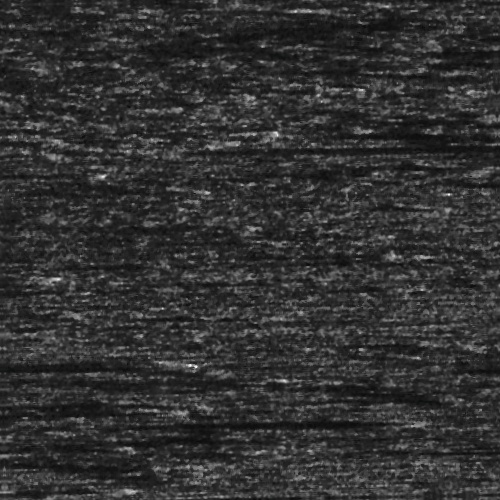object: (134, 353, 207, 368), (134, 403, 207, 414), (409, 392, 462, 405), (58, 480, 131, 489), (19, 131, 82, 140), (394, 421, 435, 426), (253, 376, 294, 381), (20, 270, 61, 275), (0, 317, 12, 328), (63, 284, 94, 287)
shadow: (0, 353, 171, 368), (274, 144, 500, 155), (0, 403, 171, 414), (306, 392, 435, 405), (154, 421, 414, 426), (369, 450, 500, 459), (69, 376, 274, 381), (0, 480, 94, 489), (0, 131, 51, 140), (470, 30, 500, 41), (6, 284, 78, 287), (0, 270, 41, 275)
